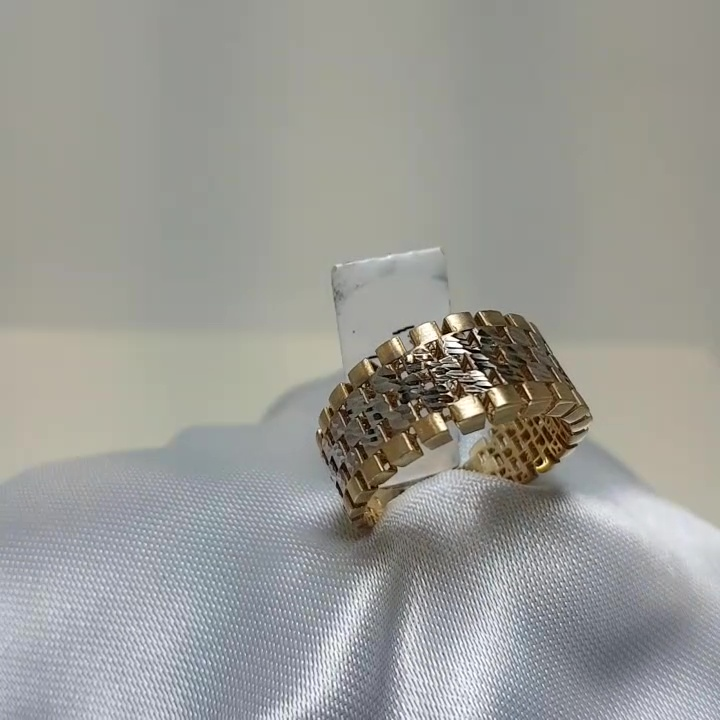Ring 1: (305, 287, 601, 564)
